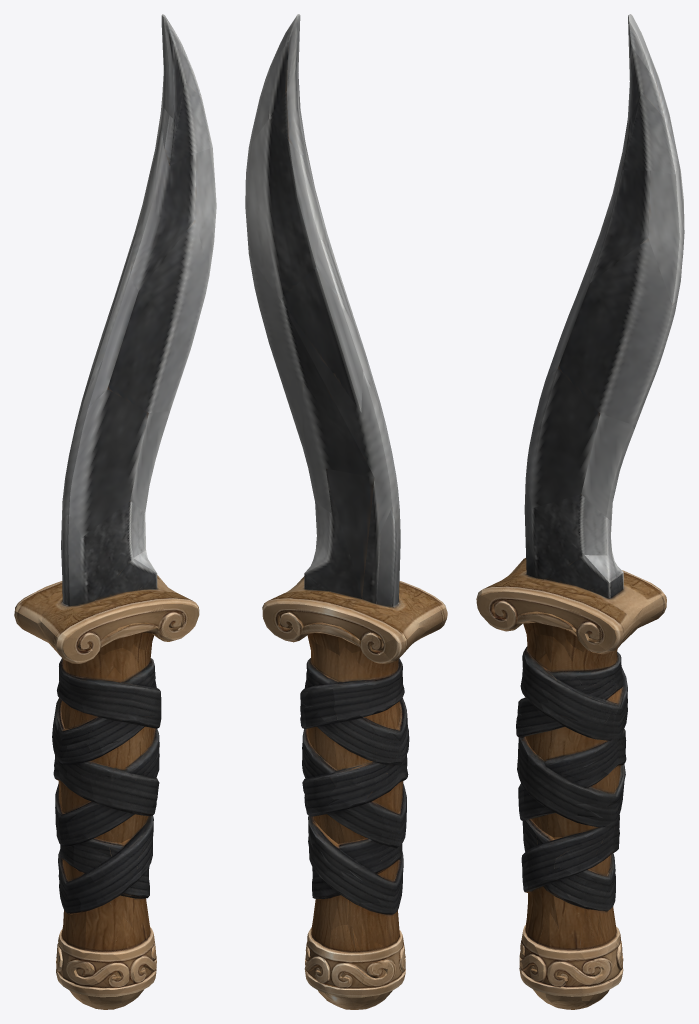
Rendered from dagger_1.glb.
The picture shows the model from 3 angles, left to right: view 1: azimuth 30°, elevation 25°; view 2: azimuth 150°, elevation 25°; view 3: azimuth 330°, elevation 25°; orthographic projection. The views are drawn at different scales.
Visible parts, largest first — view 1: output_unwrapped; view 2: output_unwrapped; view 3: output_unwrapped.
Boxes of the visible parts, x1,y1,x2,y2 form: output_unwrapped: (14,14,216,1009); output_unwrapped: (245,14,447,1009); output_unwrapped: (476,14,684,1009).
Size of the model in its own units: 0.3672 by 1.9 by 0.1821.
Materials: 1 (1 with a texture image).
